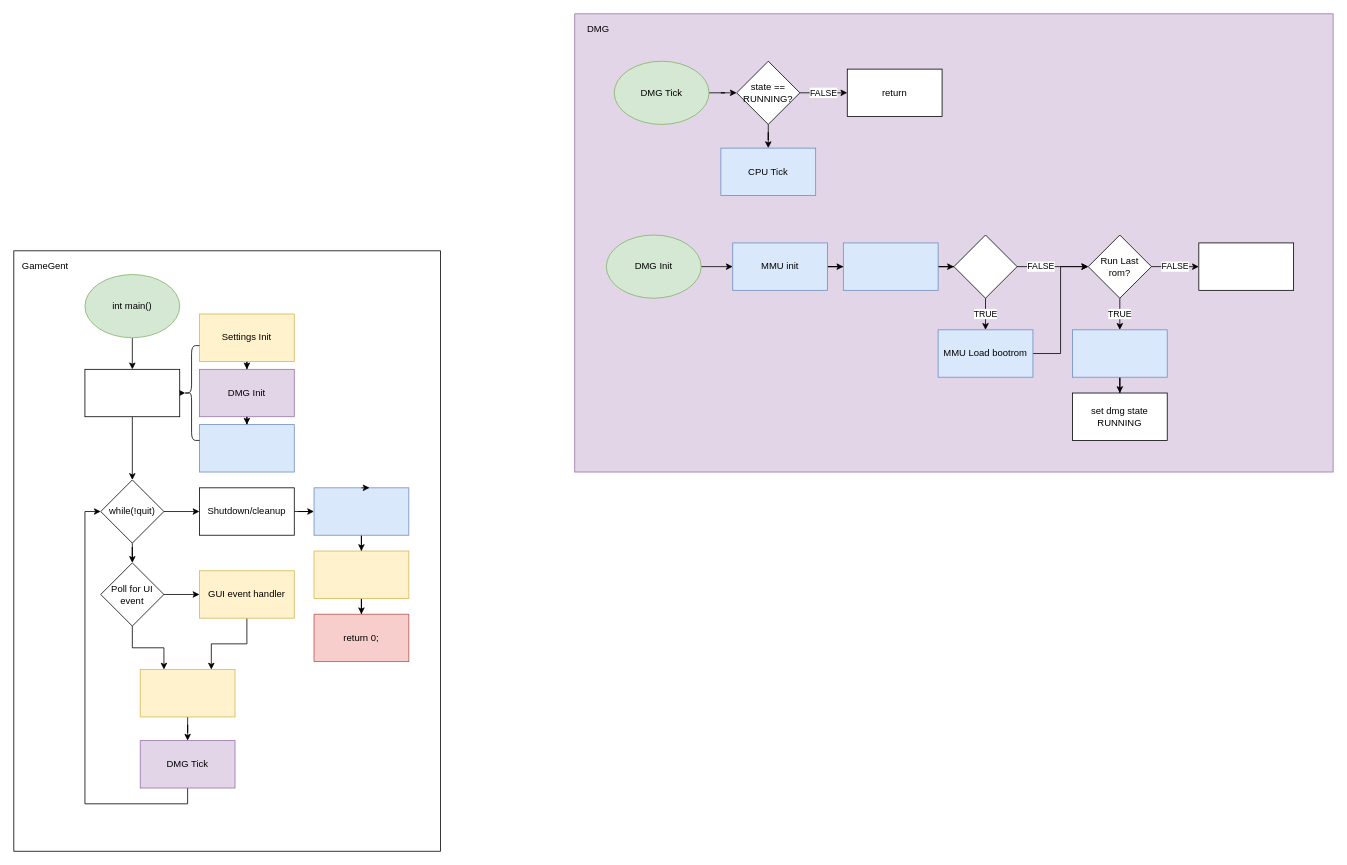
The diagram is 1347 pixels wide and 865 high, and some of its shapes have lost their labels. The centre of each missing label's shape, as x and y in pixels:
CPU init: (x=890, y=266)
dmg state STOPPED: (x=1246, y=266)
GUI init: (x=246, y=448)
GUI Render: (x=187, y=693)
GUI Shutdown: (x=361, y=511)
init: (x=132, y=393)
MMU Load rom: (x=1119, y=353)
run bootrom?: (x=985, y=266)
Settings Shutdown: (x=361, y=574)
